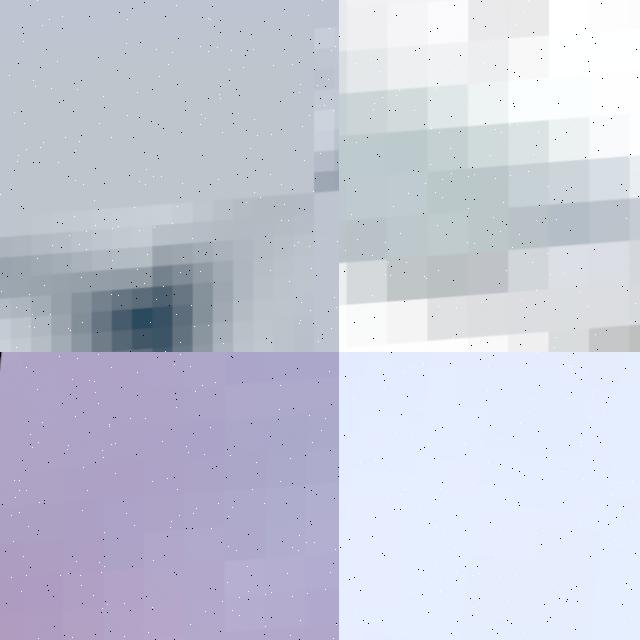drone: (0, 0, 339, 352), (339, 0, 640, 352), (0, 352, 339, 640)
